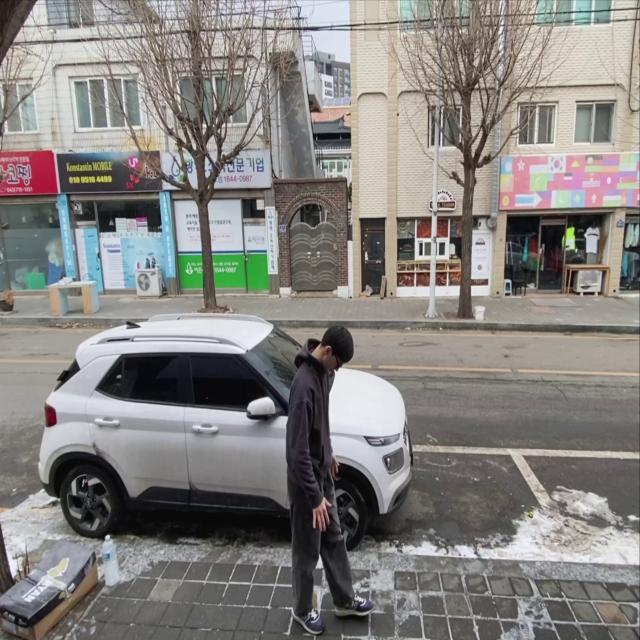bare_hand: (309, 496, 335, 534), (329, 456, 342, 477)
